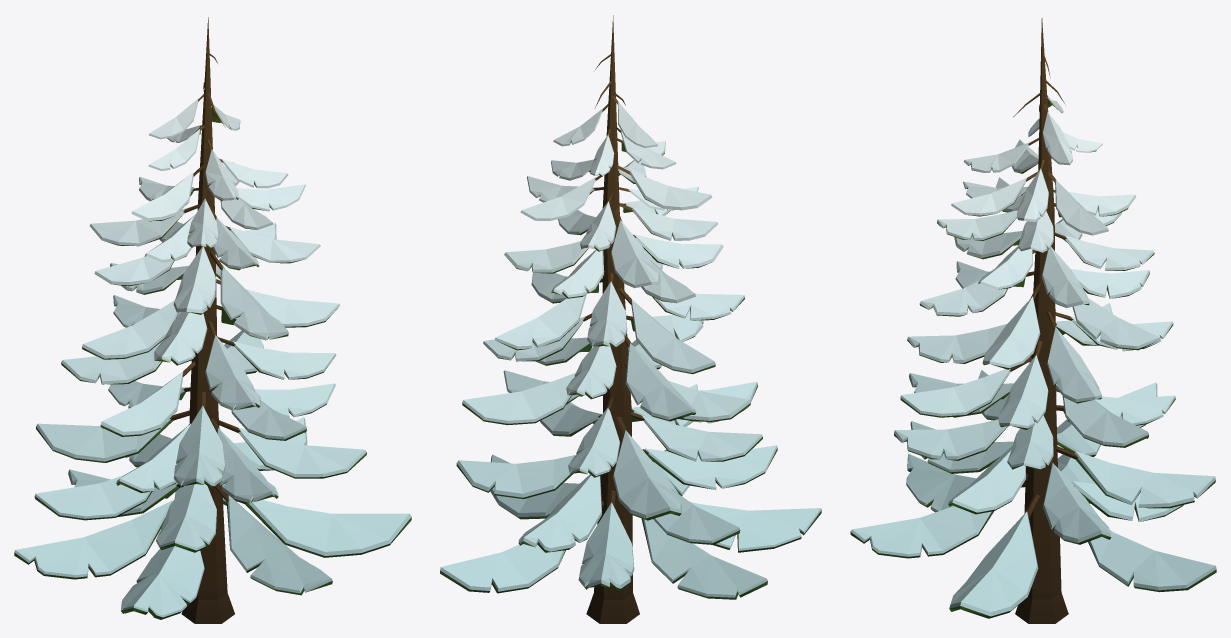
Rendered from Winter_Tree_05.glb.
3 renders of one model, left to right at view 1: azimuth 30°, elevation 25°; view 2: azimuth 150°, elevation 25°; view 3: azimuth 270°, elevation 25°, orthographic.
Visible parts, largest first — view 1: Winter_Tree_05_LOD0; view 2: Winter_Tree_05_LOD0; view 3: Winter_Tree_05_LOD0.
Boxes of the visible parts, x1,y1,x2,y2 form: Winter_Tree_05_LOD0: (14,17,411,623); Winter_Tree_05_LOD0: (440,15,821,623); Winter_Tree_05_LOD0: (850,18,1216,623).
Size of what is drawn, in the model's own units: 4.32 by 7.35 by 4.07.
1 material, 1 textured.
